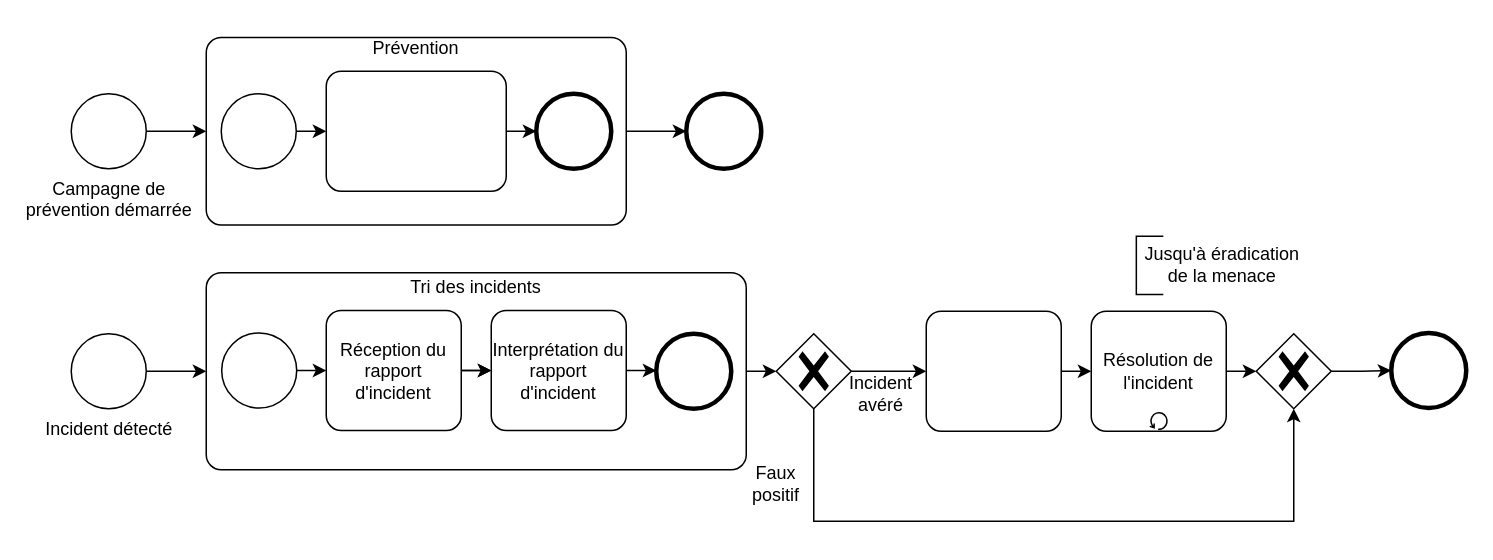
Image size: 1493x560. Some labels were removed from this diagram. Here are the shapes that lost their labels. From the top down, the centre of each, then its label:
pixel 415 130: Education, d'entraînement et sensibilisation à la sécurité
pixel 993 370: Coordination de la réponse
